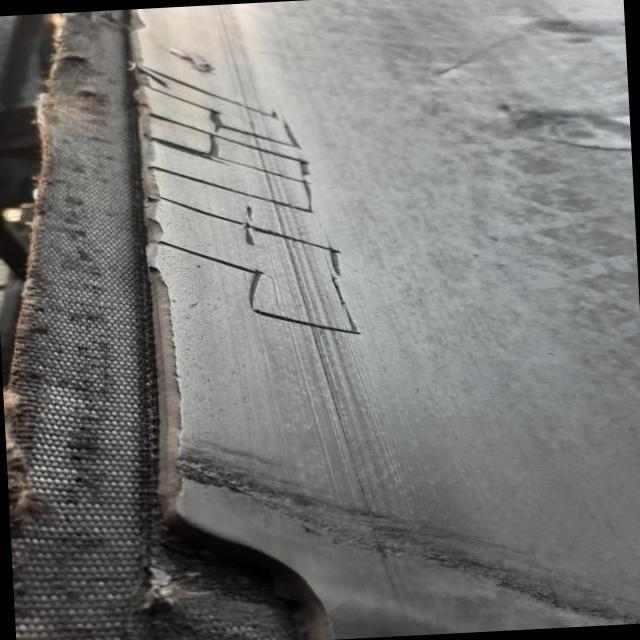Tear: (134, 61, 368, 339)
